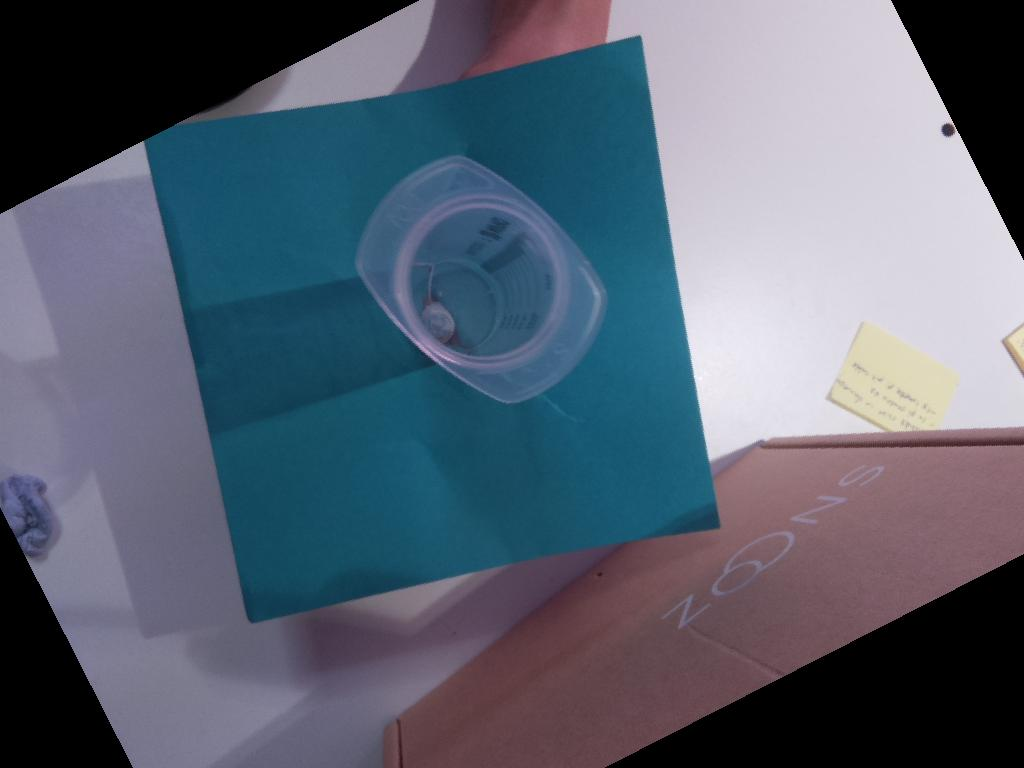clean: (354, 155, 609, 407)
